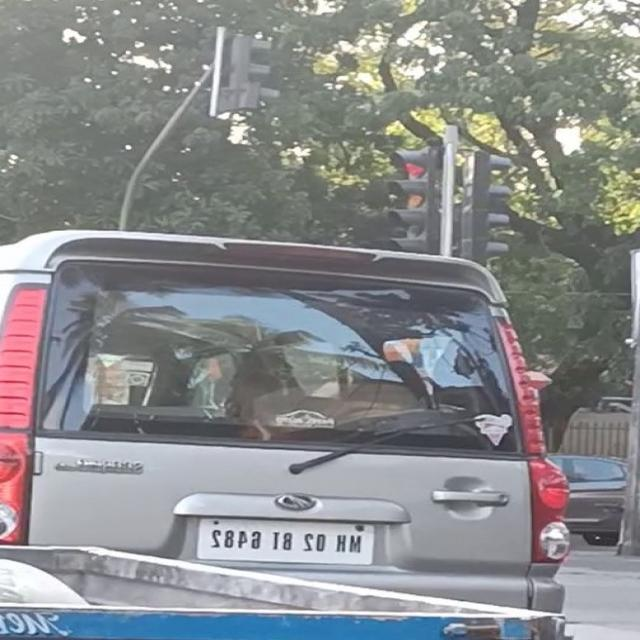license_plate: (190, 511, 380, 567)
